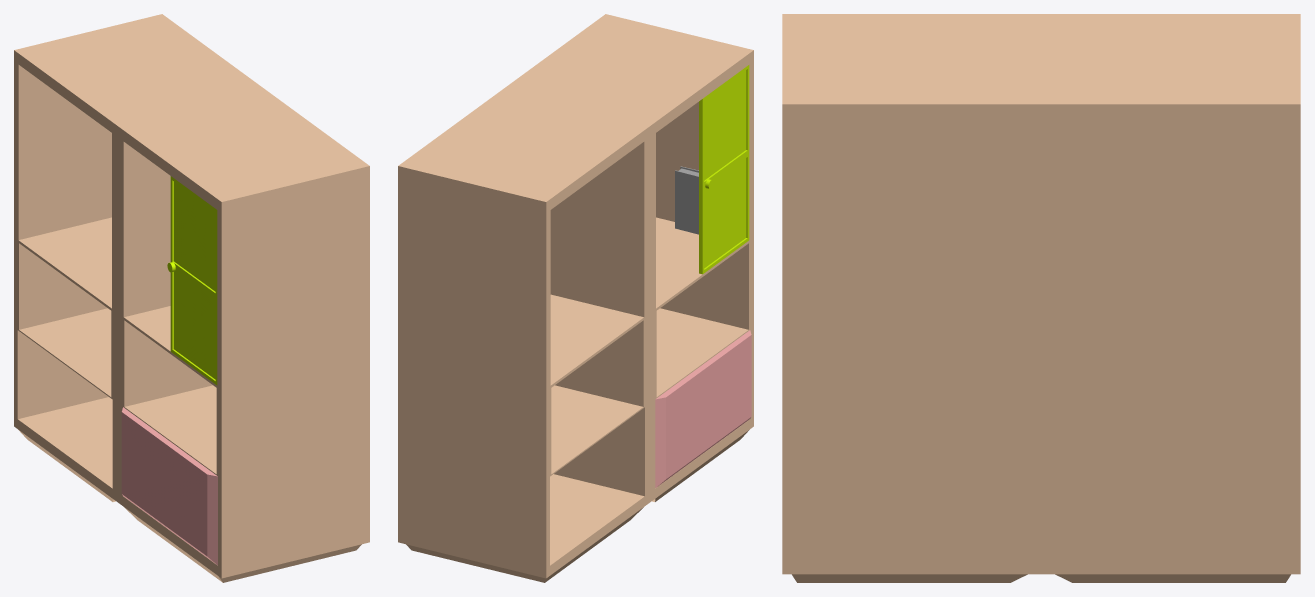
File: Lab_Storage.fbx
3 views of the same model, side by side, from view 1: azimuth 30°, elevation 25°; view 2: azimuth 150°, elevation 25°; view 3: azimuth 270°, elevation 25° (orthographic). The views are drawn at different scales.
Visible parts, largest first — view 1: Lab_Storage_Main, Drawer_1, Glass_Door_1; view 2: Lab_Storage_Main, Glass_Door_1, Drawer_1, Office_Book2; view 3: Lab_Storage_Main.
Boxes of the visible parts, box(x1,y1,x2,y2) form: Lab_Storage_Main: box(14, 14, 369, 582); Drawer_1: box(121, 407, 217, 565); Glass_Door_1: box(167, 176, 217, 385); Lab_Storage_Main: box(398, 14, 753, 582); Glass_Door_1: box(699, 65, 749, 274); Drawer_1: box(655, 330, 751, 487); Office_Book2: box(675, 166, 698, 234); Lab_Storage_Main: box(782, 14, 1300, 582).
Bounding box in the file's own units: 33.49 × 80.31 × 78.09.
